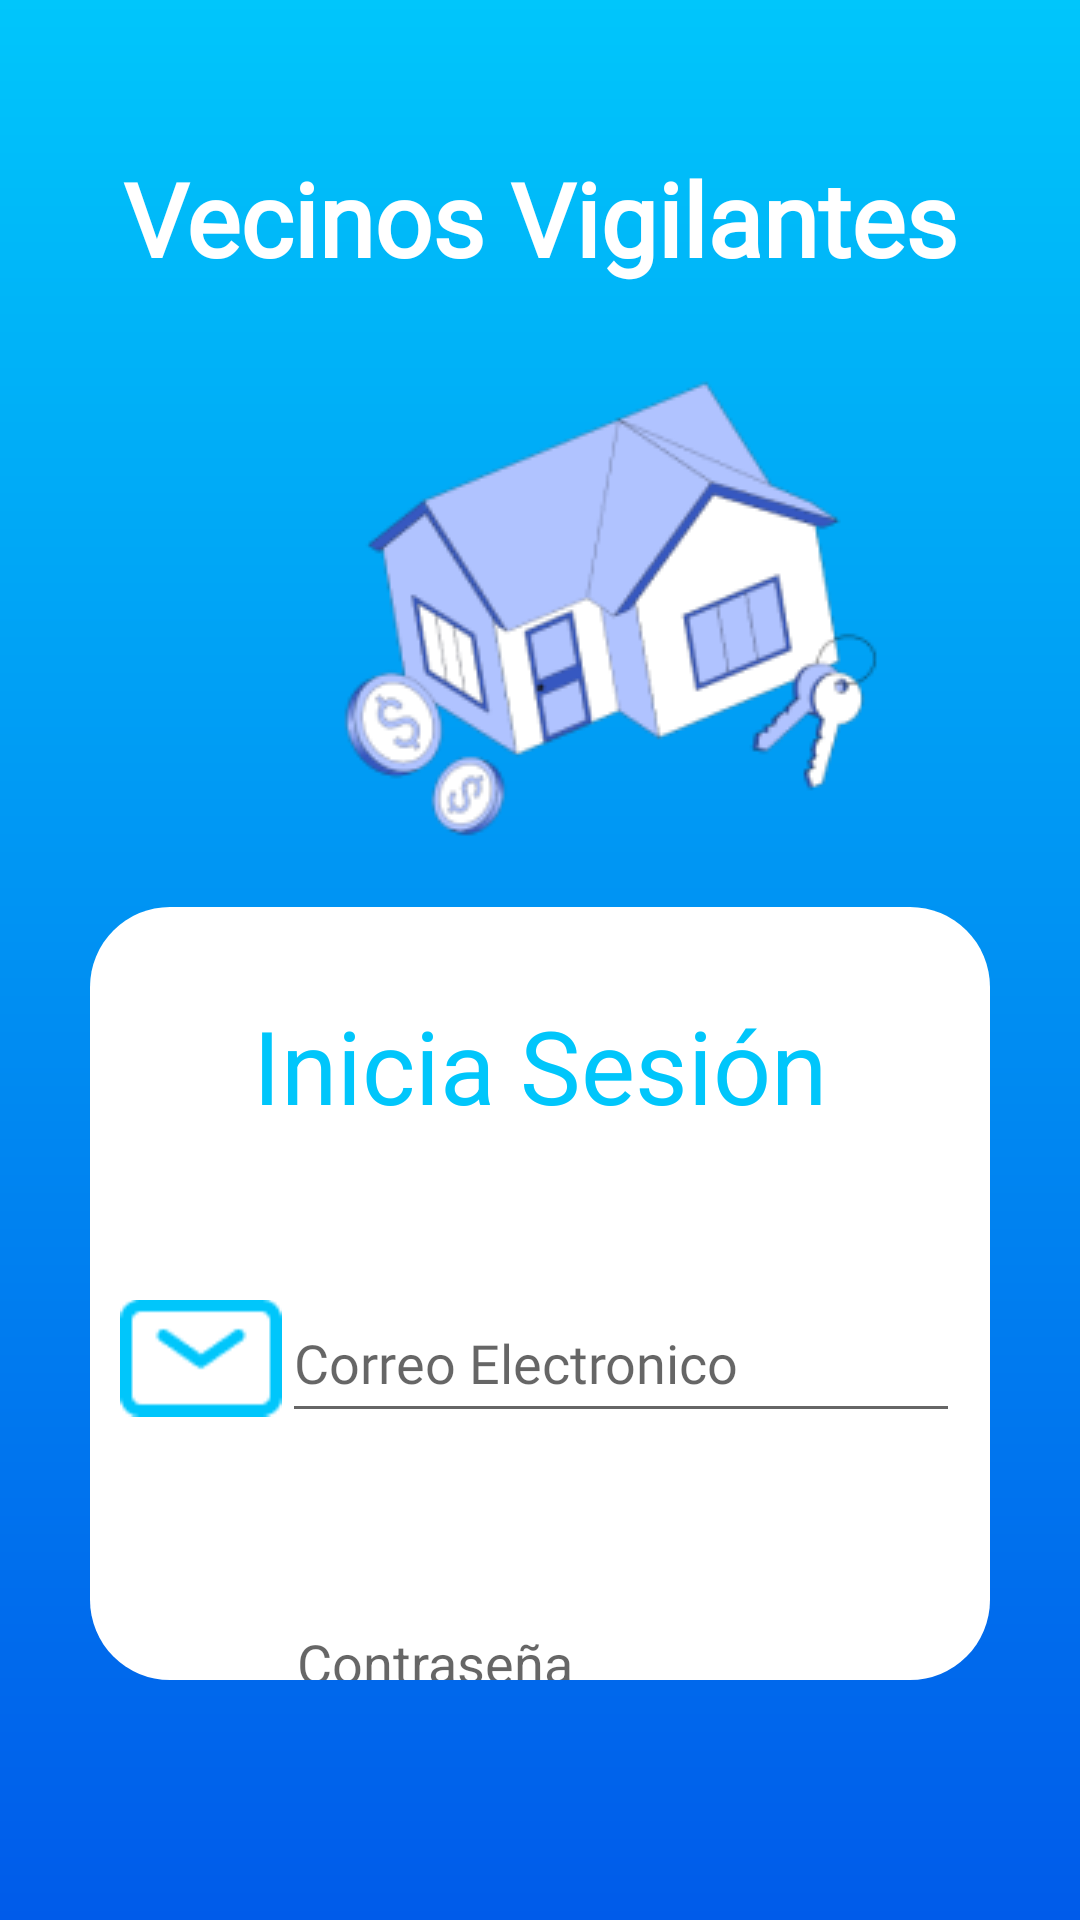

Screen size 1080*1920. Icon name, then its center in pixels as (x=x, y=y):
mail: (x=201, y=1358)
